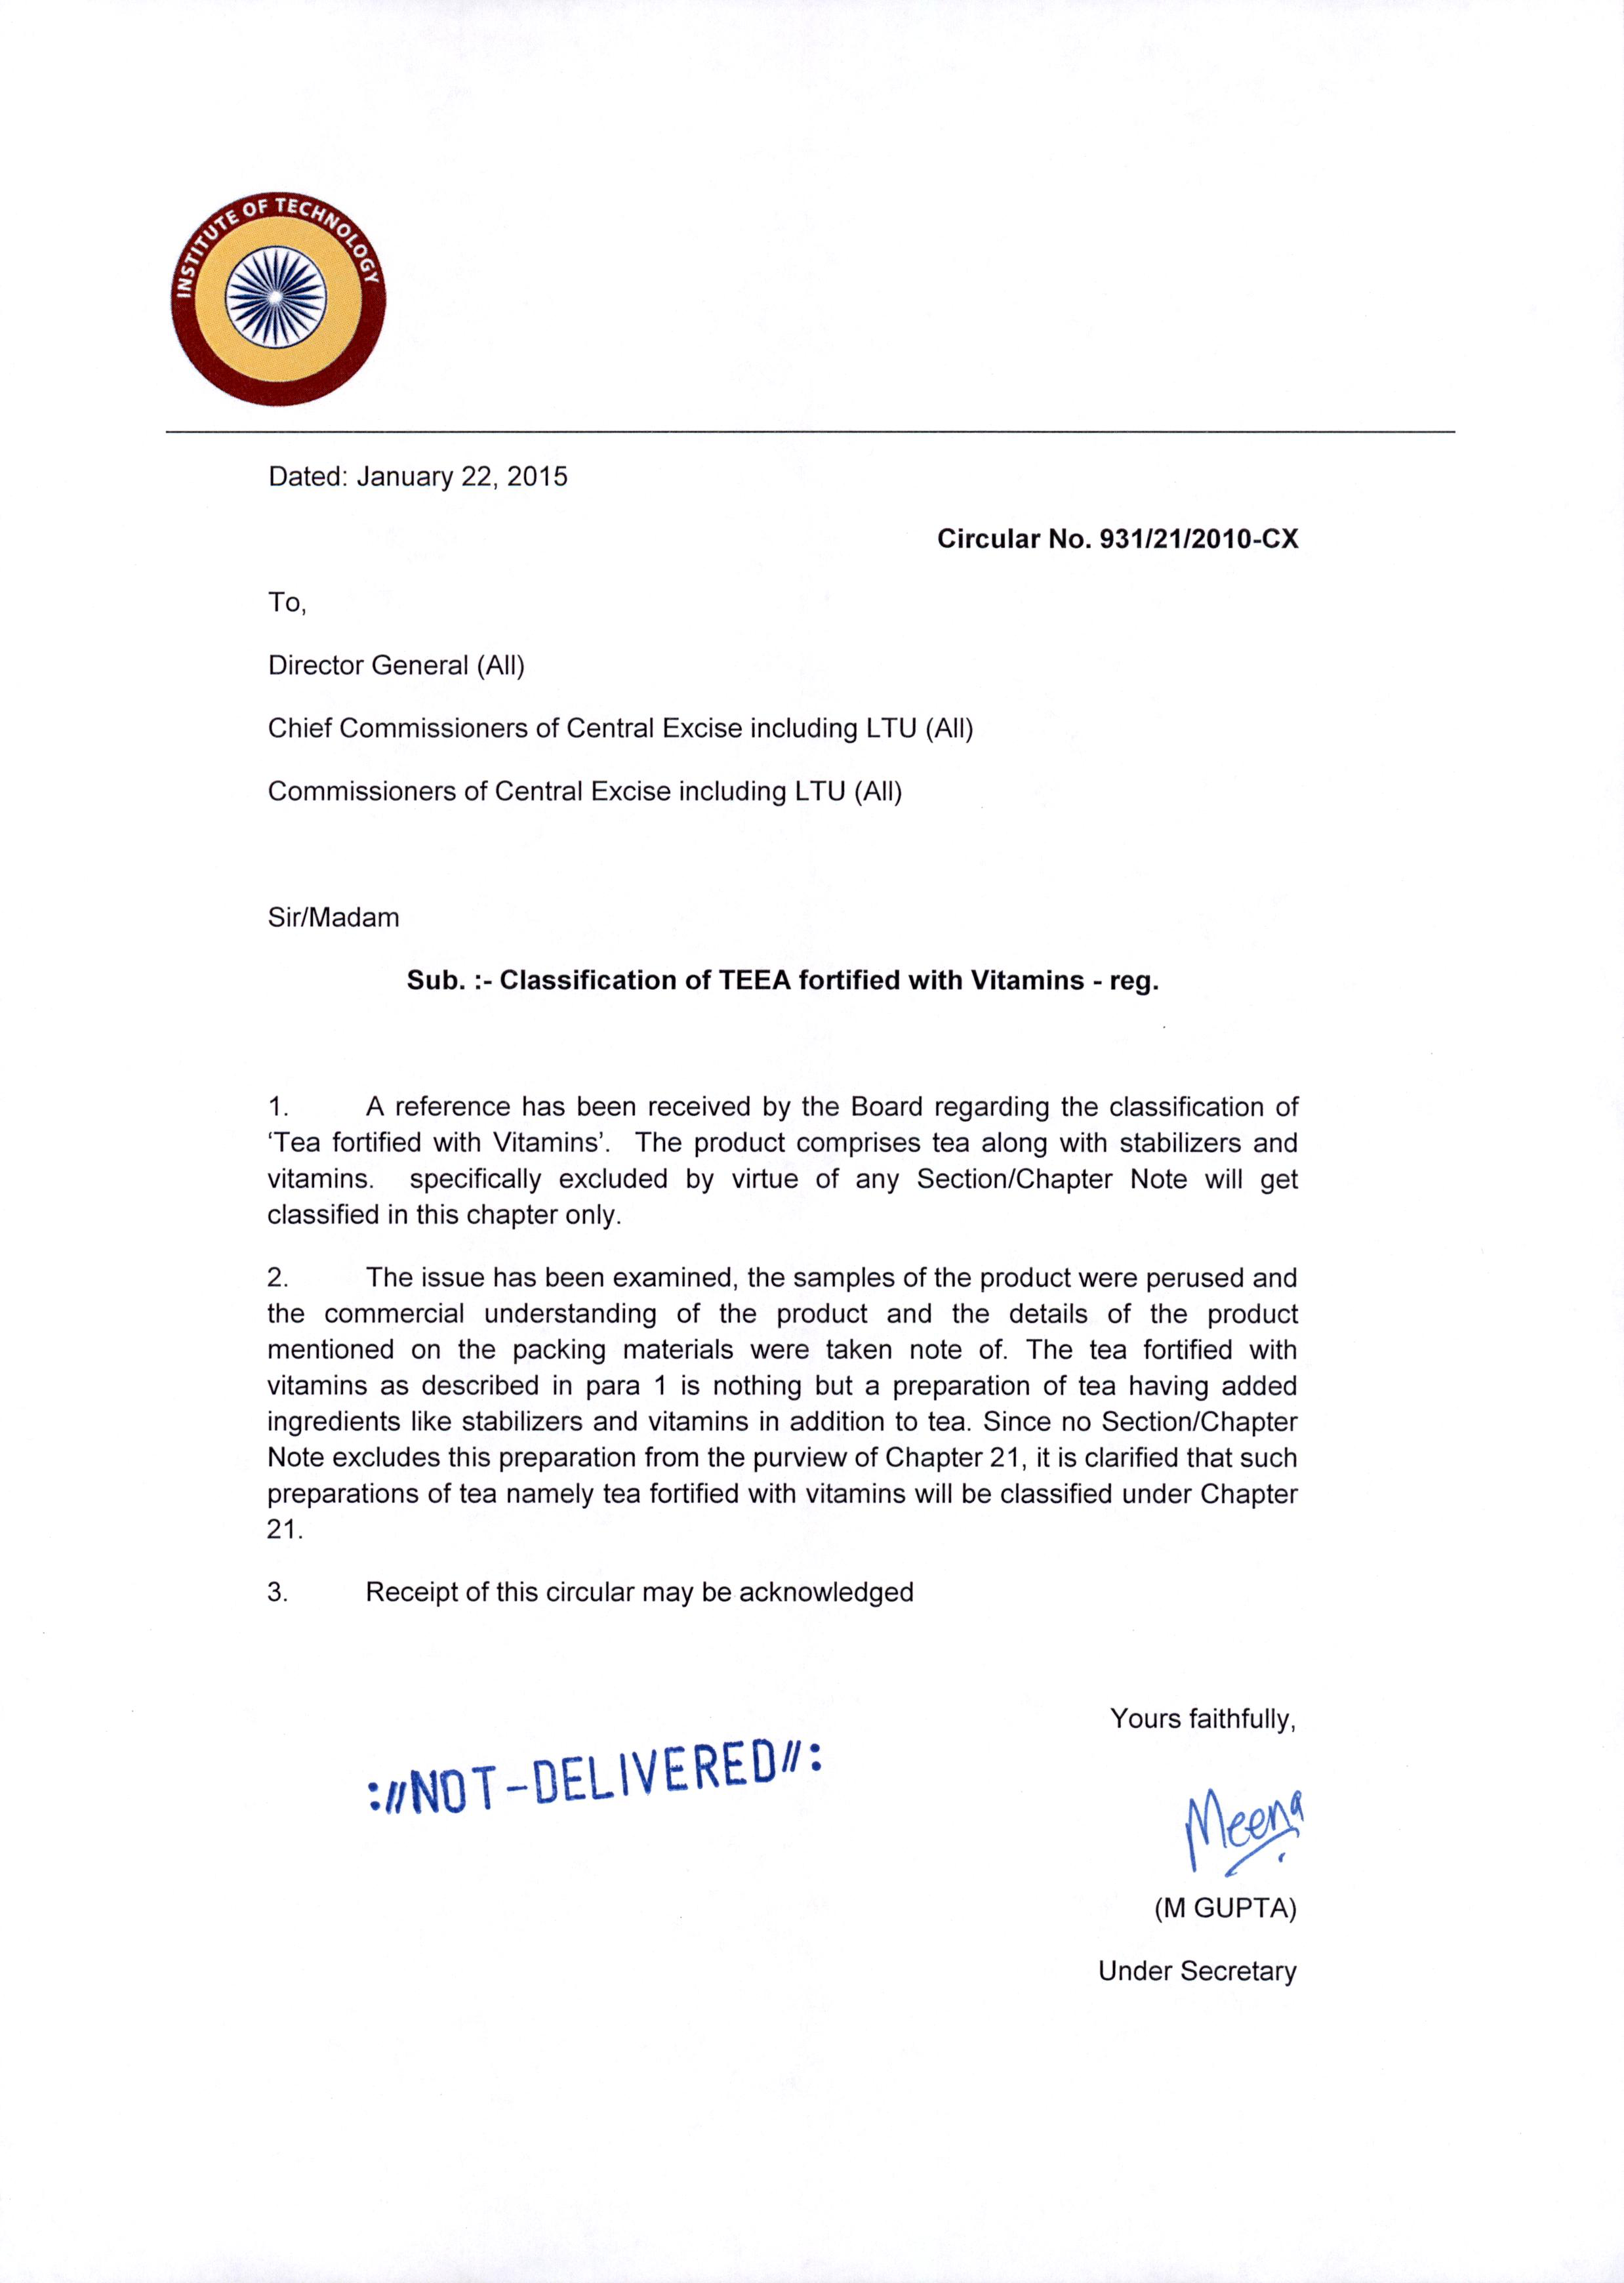Signature: (1174, 1765, 1318, 1882)
